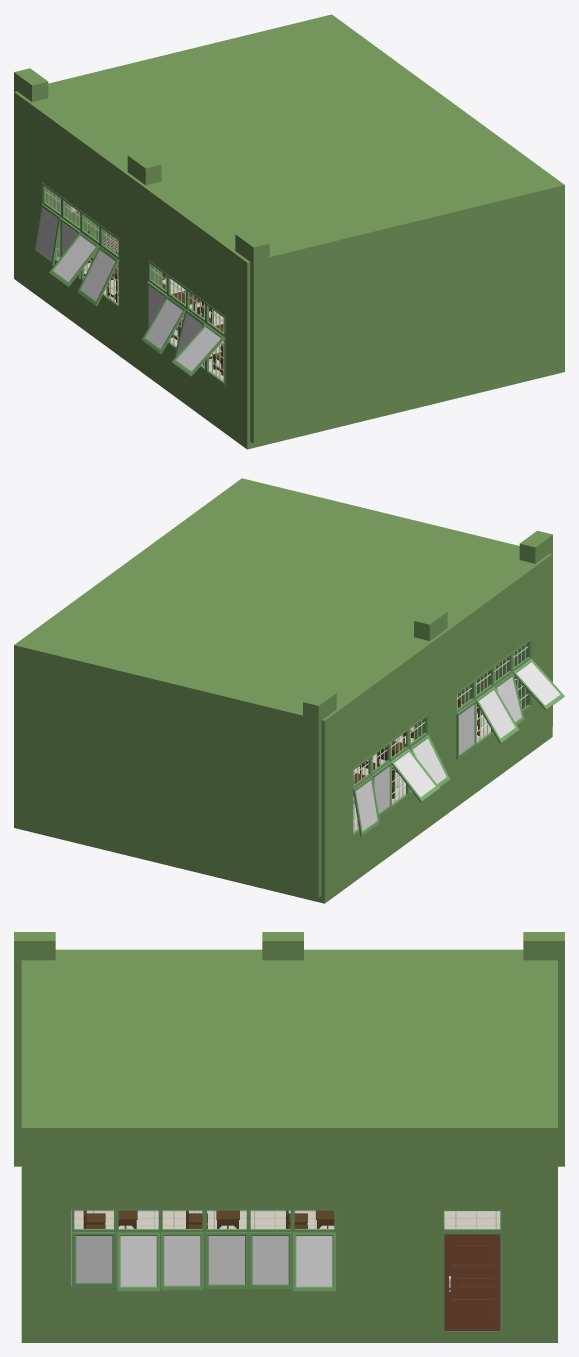
File: KelasNegri.fbx
3 renders of one model, top to bottom at view 1: azimuth 30°, elevation 25°; view 2: azimuth 150°, elevation 25°; view 3: azimuth 270°, elevation 25°, orthographic. The views are drawn at different scales.
Parts seen in each view (by area): view 1: RuangKelas, Pillar.001, KacaJendela.002, KacaJendela.004, KacaJendela.006, KacaJendela.003, KacaJendela, Pillar.002, Pillar, KacaJendela.005; view 2: RuangKelas, Pillar, Pillar.001, KacaJendela.002, KacaJendela.004, KacaJendela.006, KacaJendela, Pillar.002, KacaJendela.007, KacaJendela.003, KacaJendela.001, KacaJendela.005; view 3: RuangKelas, Pintu, Pillar.001, Pillar, KacaJendela.009, KacaJendela.013, KacaJendela.010, KacaJendela.011, KacaJendela.012, KacaJendela.008, Pillar.002, PintuFrame (+4 smaller).
Part boxes in pixels (left/top/right/bottom): RuangKelas: left=14, top=14, right=564, bottom=449; Pillar.001: left=235, top=230, right=269, bottom=443; KacaJendela.002: left=49, top=232, right=99, bottom=286; KacaJendela.004: left=172, top=323, right=224, bottom=376; KacaJendela.006: left=141, top=295, right=186, bottom=353; KacaJendela.003: left=77, top=246, right=119, bottom=305; KacaJendela: left=33, top=204, right=61, bottom=265; Pillar.002: left=127, top=151, right=161, bottom=286; Pillar: left=14, top=68, right=48, bottom=203; KacaJendela.005: left=174, top=309, right=205, bottom=357; RuangKelas: left=14, top=478, right=552, bottom=903; Pillar: left=303, top=689, right=336, bottom=897; Pillar.001: left=519, top=530, right=552, bottom=726; KacaJendela.002: left=390, top=748, right=439, bottom=802; KacaJendela.004: left=512, top=658, right=564, bottom=710; KacaJendela.006: left=475, top=686, right=519, bottom=743; KacaJendela: left=352, top=776, right=379, bottom=836; Pillar.002: left=414, top=608, right=447, bottom=739; KacaJendela.007: left=456, top=700, right=476, bottom=759; KacaJendela.003: left=409, top=734, right=450, bottom=787; KacaJendela.001: left=371, top=762, right=391, bottom=816; KacaJendela.005: left=494, top=673, right=524, bottom=724; RuangKelas: left=21, top=949, right=557, bottom=1342; Pintu: left=444, top=1234, right=500, bottom=1330; Pillar.001: left=14, top=932, right=55, bottom=1166; Pillar: left=523, top=932, right=564, bottom=1166; KacaJendela.009: left=117, top=1232, right=159, bottom=1291; KacaJendela.013: left=293, top=1232, right=335, bottom=1291; KacaJendela.010: left=161, top=1232, right=203, bottom=1290; KacaJendela.011: left=205, top=1232, right=248, bottom=1288; KacaJendela.012: left=249, top=1232, right=291, bottom=1288; KacaJendela.008: left=72, top=1232, right=115, bottom=1286; Pillar.002: left=262, top=932, right=303, bottom=960; PintuFrame: left=442, top=1209, right=502, bottom=1331.
Size of the model in its own units: 681 by 363 by 774.
